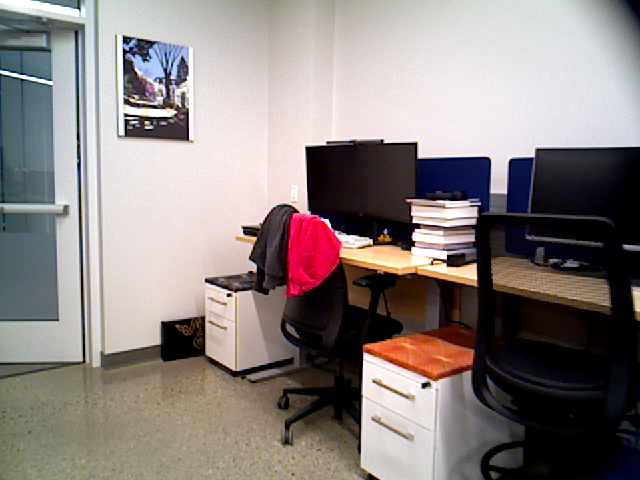painting3: (114, 33, 198, 143)
